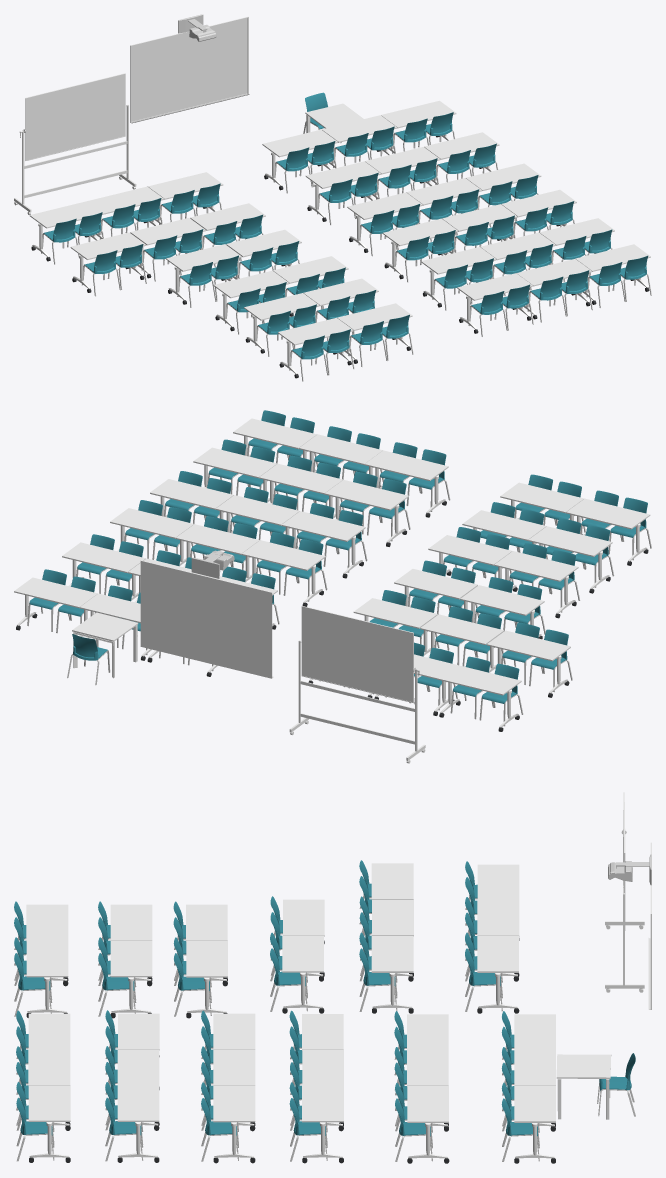
Rendered from SALLE_A8.fbx.
3 renders of one model, top to bottom at view 1: azimuth 30°, elevation 25°; view 2: azimuth 150°, elevation 25°; view 3: azimuth 270°, elevation 25°, orthographic. The views are drawn at different scales.
Visible parts, largest first — view 1: bureaux_double_A8, chaise_dossier_A8, tableau_A8, tableau_roulant_A8, chaise_pieds_A8, table_simple_A8, bureaux_doubles_roues_A8, tableau_projo_A8; view 2: bureaux_double_A8, chaise_dossier_A8, tableau_A8, tableau_roulant_A8, chaise_pieds_A8, table_simple_A8, tableau_projo_A8, bureaux_doubles_roues_A8; view 3: bureaux_double_A8, chaise_dossier_A8, chaise_pieds_A8, table_simple_A8, bureaux_doubles_roues_A8, tableau_roulant_A8, tableau_projo_A8.
Boxes of the visible parts, x1=… form: bureaux_double_A8: x1=29, y1=100, x2=650, y2=374; chaise_dossier_A8: x1=43, y1=92, x2=648, y2=359; tableau_A8: x1=130, y1=16, x2=249, y2=123; tableau_roulant_A8: x1=14, y1=73, x2=136, y2=214; chaise_pieds_A8: x1=41, y1=121, x2=651, y2=381; table_simple_A8: x1=305, y1=103, x2=363, y2=132; bureaux_doubles_roues_A8: x1=31, y1=136, x2=649, y2=378; tableau_projo_A8: x1=178, y1=14, x2=216, y2=41; bureaux_double_A8: x1=14, y1=418, x2=650, y2=727; chaise_dossier_A8: x1=29, y1=410, x2=647, y2=703; tableau_A8: x1=140, y1=560, x2=273, y2=678; tableau_roulant_A8: x1=289, y1=606, x2=425, y2=763; chaise_pieds_A8: x1=27, y1=443, x2=651, y2=726; table_simple_A8: x1=72, y1=612, x2=138, y2=678; tableau_projo_A8: x1=191, y1=550, x2=234, y2=578; bureaux_doubles_roues_A8: x1=16, y1=470, x2=648, y2=731; bureaux_double_A8: x1=26, y1=863, x2=555, y2=1158; chaise_dossier_A8: x1=14, y1=860, x2=635, y2=1136; chaise_pieds_A8: x1=14, y1=895, x2=635, y2=1161; table_simple_A8: x1=556, y1=1054, x2=611, y2=1119; bureaux_doubles_roues_A8: x1=26, y1=938, x2=555, y2=1163; tableau_roulant_A8: x1=605, y1=792, x2=644, y2=992; tableau_projo_A8: x1=608, y1=854, x2=651, y2=885.
Bounding box in the file's own units: 851 × 272 × 890.
